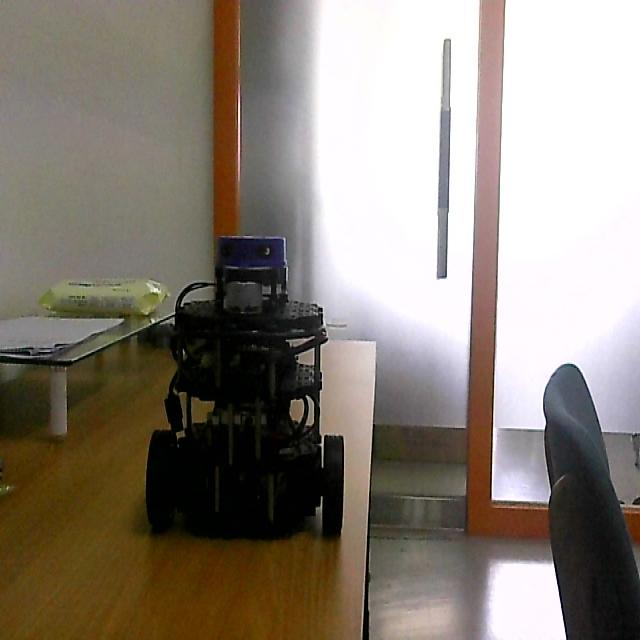turtle: (145, 234, 345, 540)
